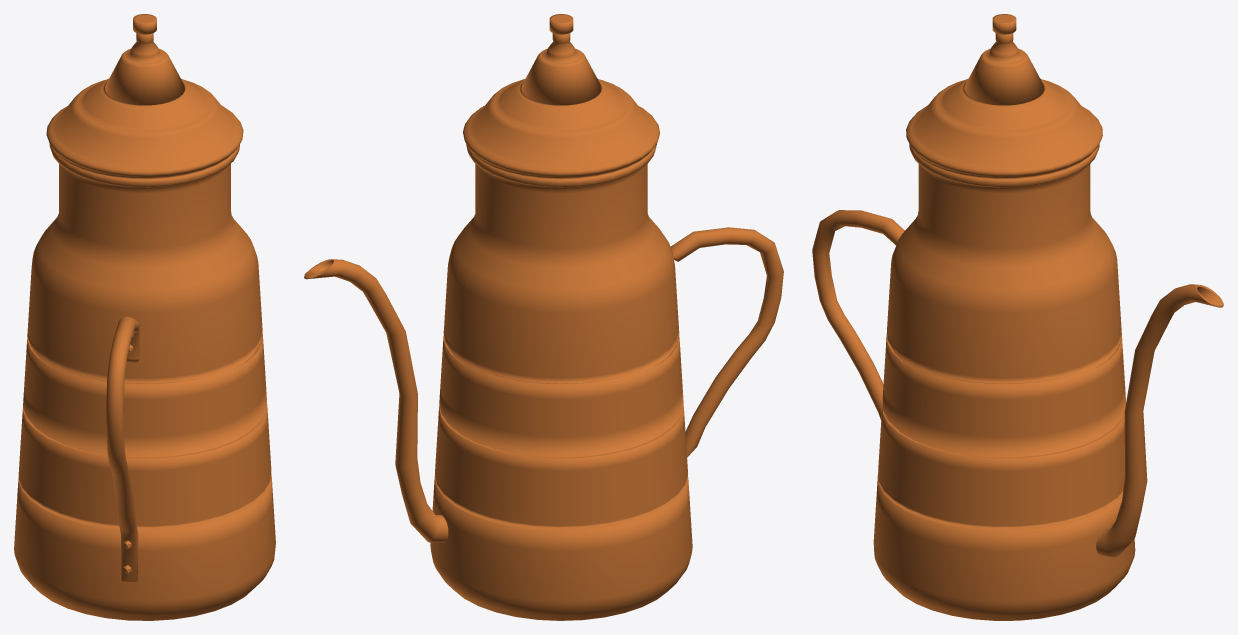
The model's file is bakir-surahi.glb.
The picture shows the model from 3 angles, left to right: view 1: azimuth 30°, elevation 25°; view 2: azimuth 150°, elevation 25°; view 3: azimuth 270°, elevation 25°; orthographic projection.
Visible parts, largest first — view 1: Cylinder.047; view 2: Cylinder.047; view 3: Cylinder.047.
Boxes of the visible parts, <box> form: Cylinder.047: <box>14,14,275,620</box>; Cylinder.047: <box>304,14,783,620</box>; Cylinder.047: <box>812,14,1223,620</box>.
Bounding box in the file's own units: 0.1621 × 0.3061 × 0.2065.
